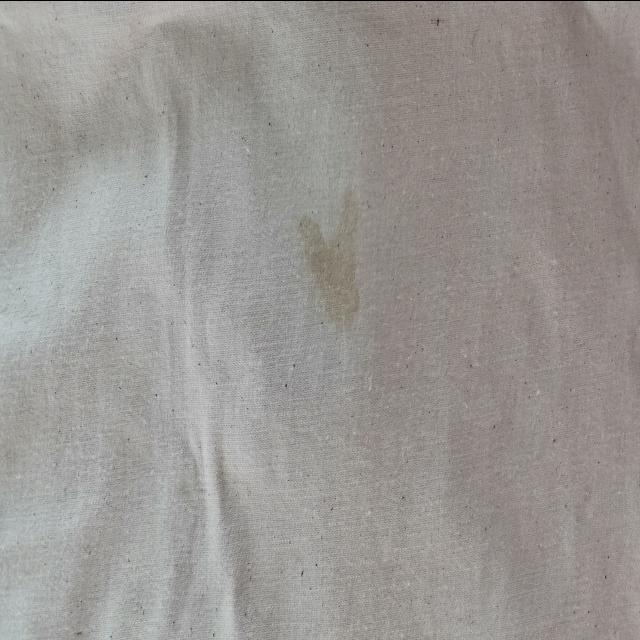taaaches: (294, 192, 372, 340)
